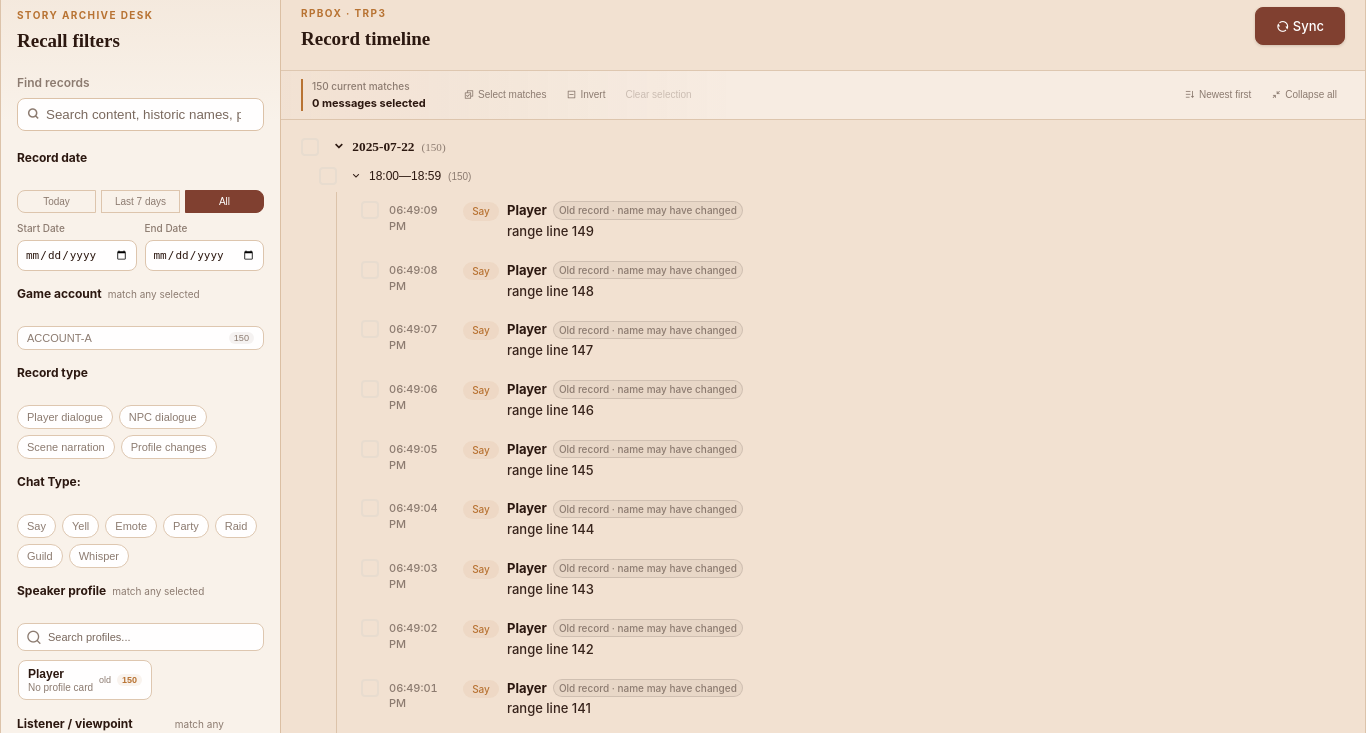
StagingPool › limits shift-range selection to the currently rendered records
The width and height of the screenshot is (1366, 733).
What coordinates should you click on to do the following:
click the checkbox with class "record-item" that starts with "06:49:09 PM"
I would click on:
 (552, 220)
Its box is 361,201 -> 743,239.
(page scrolled)
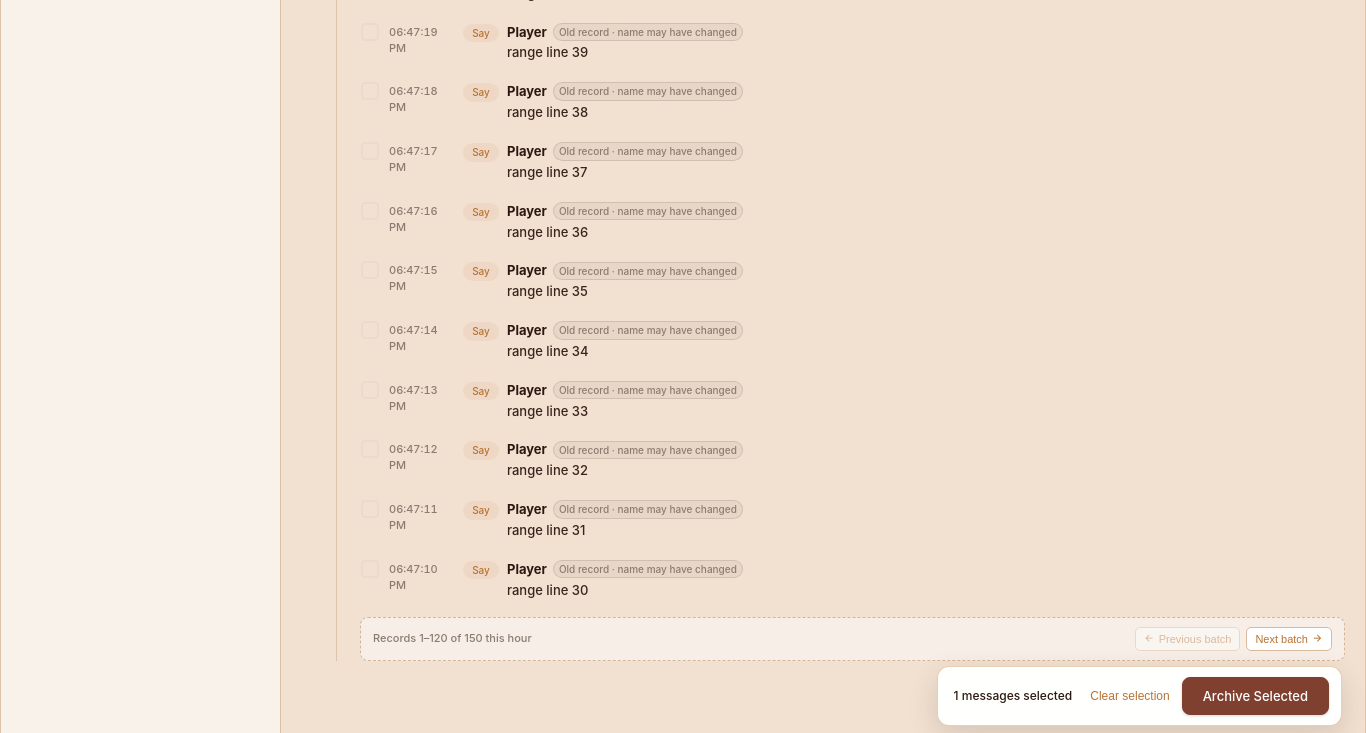
What coordinates should you click on to do the following:
click the checkbox with class "record-item" that starts with "06:47:10 PM"
I would click on:
 (552, 579)
Its box is 361,560 -> 743,598.
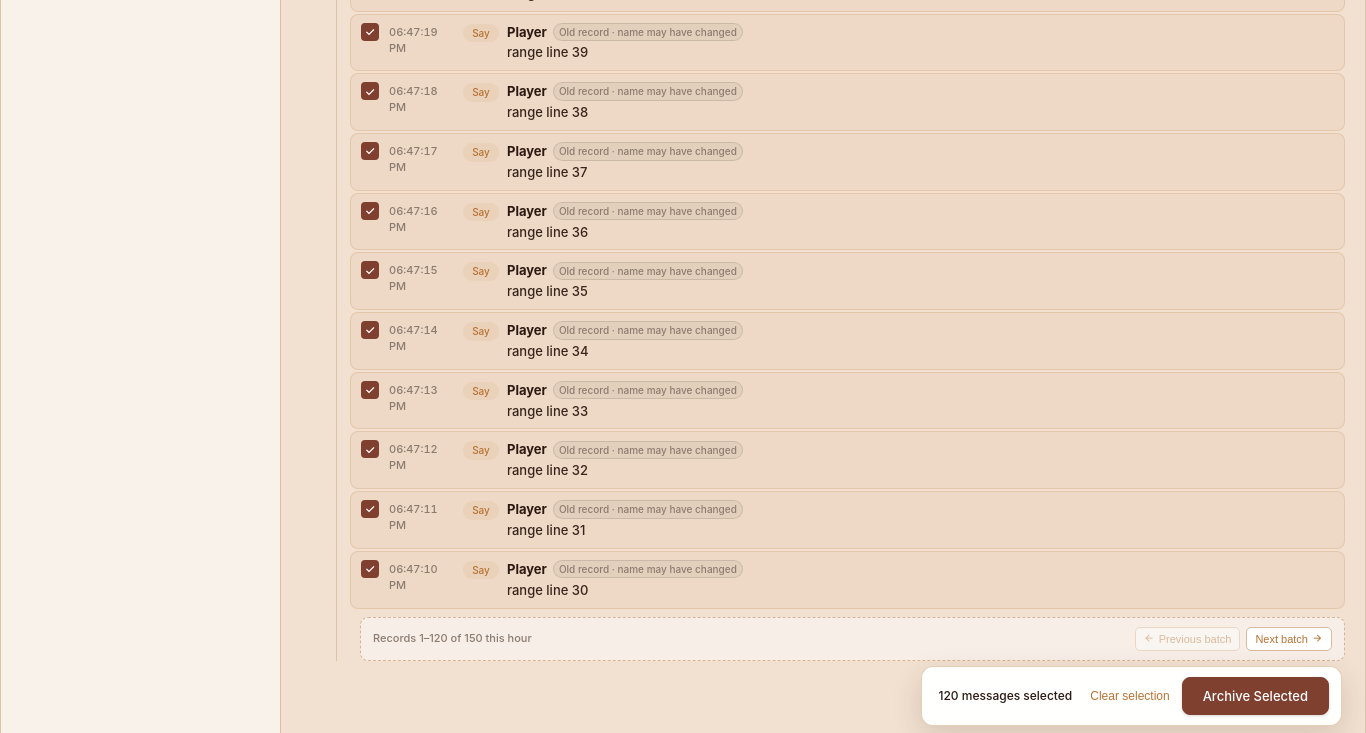
Result: the footer with class "staging-footer" shows "120" at 938,688 -> 1072,703
